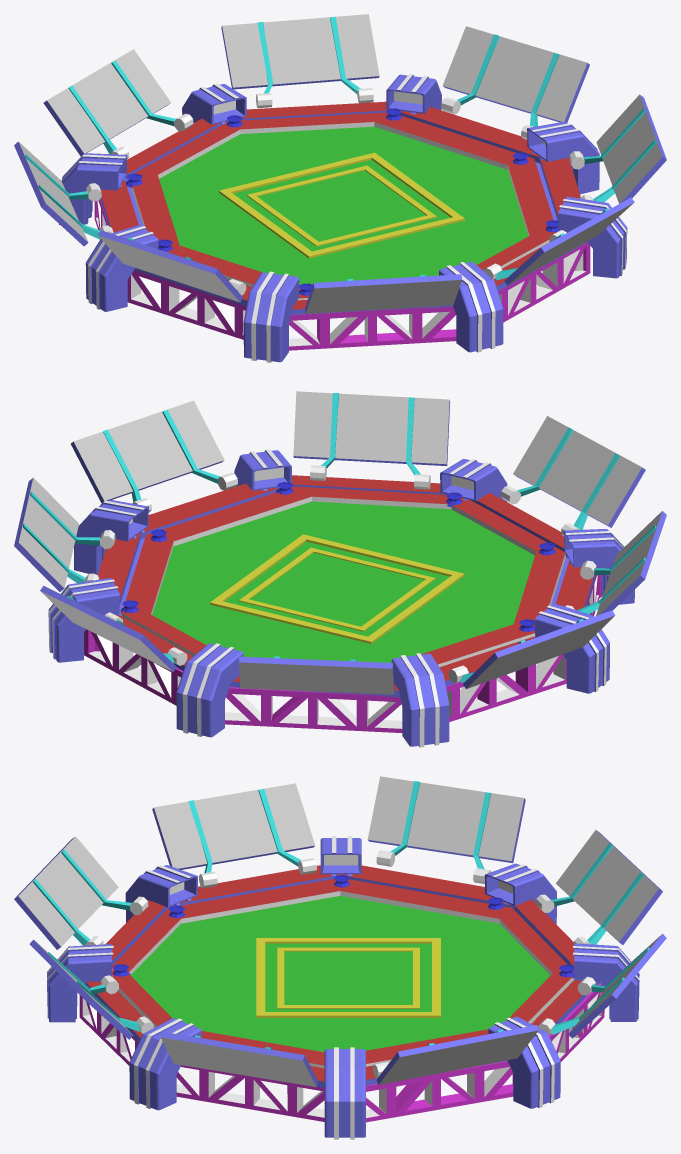
The model's file is platform_probe.glb.
3 views of the same model, one above another, from view 1: azimuth 30°, elevation 25°; view 2: azimuth 150°, elevation 25°; view 3: azimuth 270°, elevation 25° (orthographic). The views are drawn at different scales.
Visible parts, largest first — view 1: p1, p6, p8, p0, p7, p4, p3, p5, p2; view 2: p1, p6, p8, p0, p7, p4, p3, p5, p2; view 3: p1, p6, p8, p0, p7, p4, p3, p5, p2.
Part boxes in pixels (bbox=[...]): p1: bbox=[159, 126, 528, 284]; p6: bbox=[18, 14, 662, 313]; p8: bbox=[14, 26, 666, 362]; p0: bbox=[100, 101, 580, 309]; p7: bbox=[61, 74, 626, 362]; p4: bbox=[94, 199, 590, 350]; p3: bbox=[219, 152, 464, 258]; p5: bbox=[25, 16, 656, 280]; p2: bbox=[125, 108, 558, 295]; p1: bbox=[152, 501, 534, 662]; p6: bbox=[18, 391, 661, 694]; p8: bbox=[14, 400, 666, 746]; p0: bbox=[97, 475, 596, 690]; p7: bbox=[48, 449, 624, 747]; p4: bbox=[84, 567, 601, 732]; p3: bbox=[210, 534, 464, 643]; p5: bbox=[23, 393, 656, 682]; p2: bbox=[120, 482, 555, 631]; p1: bbox=[130, 896, 550, 1052]; p6: bbox=[18, 776, 661, 1086]; p8: bbox=[14, 798, 666, 1137]; p0: bbox=[86, 865, 595, 1081]; p7: bbox=[47, 836, 639, 1139]; p4: bbox=[79, 983, 604, 1122]; p3: bbox=[256, 938, 440, 1017]; p5: bbox=[33, 781, 649, 1049]; p2: bbox=[112, 875, 574, 978].
Bounding box in the file's own units: 9.14 × 1.52 × 8.93.
